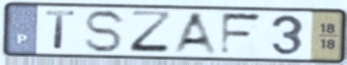3: (267, 13, 309, 58)
A: (170, 10, 223, 57)
F: (218, 11, 266, 57)
S: (82, 8, 129, 55)
T: (43, 9, 79, 52)
Z: (128, 9, 176, 56)
